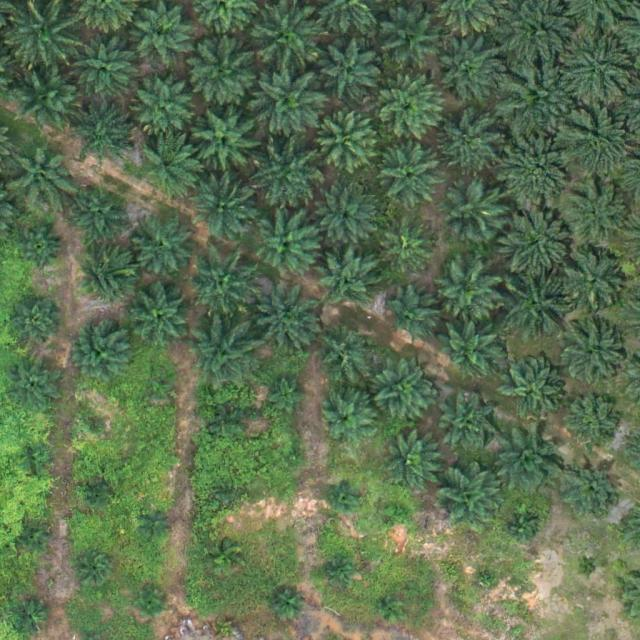Grass: (77, 548, 117, 588), (269, 373, 308, 413), (12, 598, 51, 637), (80, 481, 111, 513), (143, 508, 174, 540), (214, 410, 245, 441), (18, 523, 49, 554), (323, 558, 354, 589), (331, 481, 362, 512), (387, 502, 411, 526), (218, 482, 241, 506), (283, 447, 306, 471), (22, 451, 45, 474)
Healthy: (251, 66, 329, 145), (429, 29, 507, 108), (502, 62, 580, 141), (500, 130, 578, 209), (557, 108, 635, 187), (561, 32, 639, 110), (497, 203, 575, 281), (252, 285, 323, 356), (502, 272, 573, 343), (7, 59, 78, 129), (252, 2, 322, 73), (376, 76, 446, 147), (251, 142, 322, 212), (189, 250, 259, 321), (189, 38, 259, 108), (187, 318, 257, 388), (497, 428, 567, 498), (132, 7, 195, 70), (317, 189, 380, 252), (317, 248, 380, 311), (255, 214, 318, 277), (195, 111, 258, 174), (129, 286, 192, 349), (139, 132, 202, 195), (562, 328, 625, 391), (564, 182, 627, 245), (76, 39, 138, 102), (439, 115, 501, 178), (439, 318, 501, 381), (373, 361, 435, 424), (380, 147, 443, 209), (316, 112, 378, 175), (313, 322, 375, 385), (191, 172, 253, 235), (134, 216, 196, 279), (131, 77, 193, 140), (71, 103, 133, 166), (71, 185, 133, 248), (74, 245, 136, 308), (10, 138, 72, 201), (502, 360, 564, 423), (561, 252, 623, 315), (439, 469, 501, 532), (322, 37, 384, 99), (378, 8, 440, 70), (444, 183, 506, 245), (436, 262, 498, 324), (69, 320, 131, 382), (378, 431, 440, 493), (386, 289, 441, 344), (381, 222, 436, 277), (8, 293, 63, 348), (440, 396, 495, 451), (564, 396, 619, 451), (322, 394, 376, 449), (5, 356, 59, 411), (565, 463, 619, 518)
Small: (18, 227, 65, 274), (210, 542, 241, 574), (270, 592, 301, 624), (506, 511, 537, 543), (145, 373, 176, 404), (80, 414, 111, 445), (381, 597, 405, 621), (476, 569, 500, 593), (577, 557, 601, 581), (140, 590, 164, 613)
